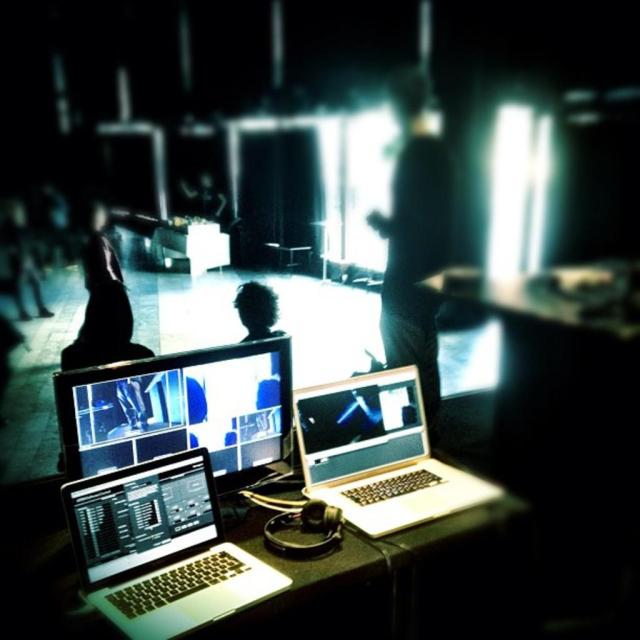laptop: (64, 448, 274, 640), (286, 367, 494, 530)
